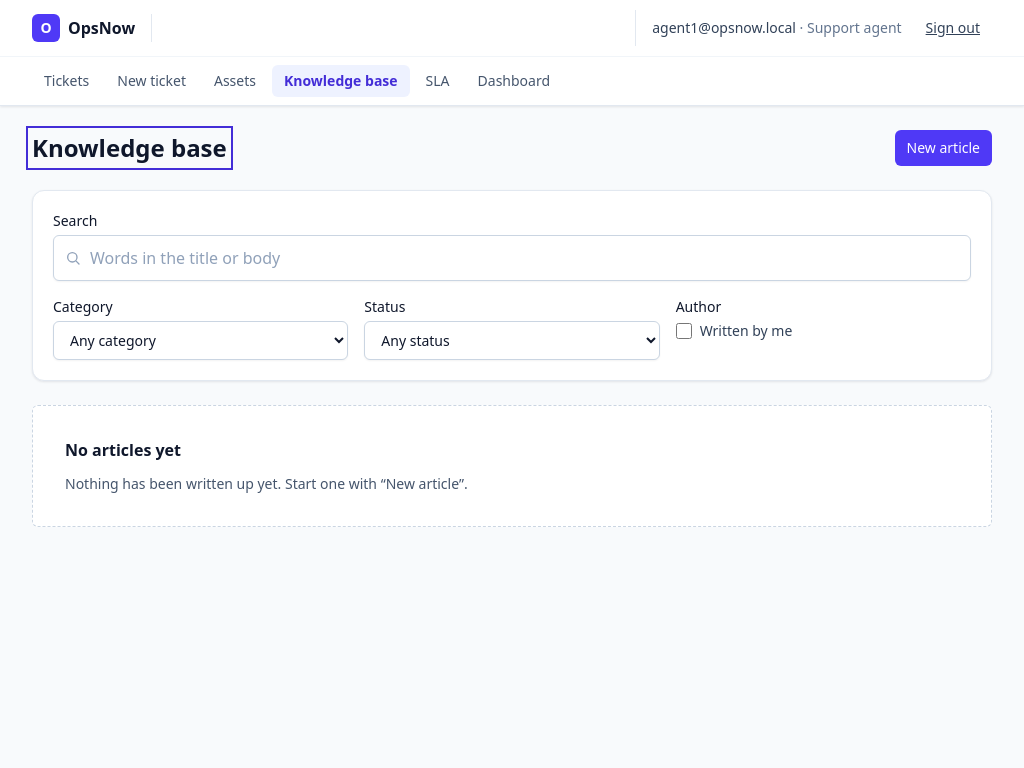
Test case: article list — states › distinguishes "nothing yet" from "no matches"
Expected: the heading "Knowledge base" is shown, [32,132,227,164]
Expected: the text "No articles yet" is shown, [65,438,181,462]
Select "Archived" in the dropdown labelled "Status" at (512, 340), box [364,321,660,360]
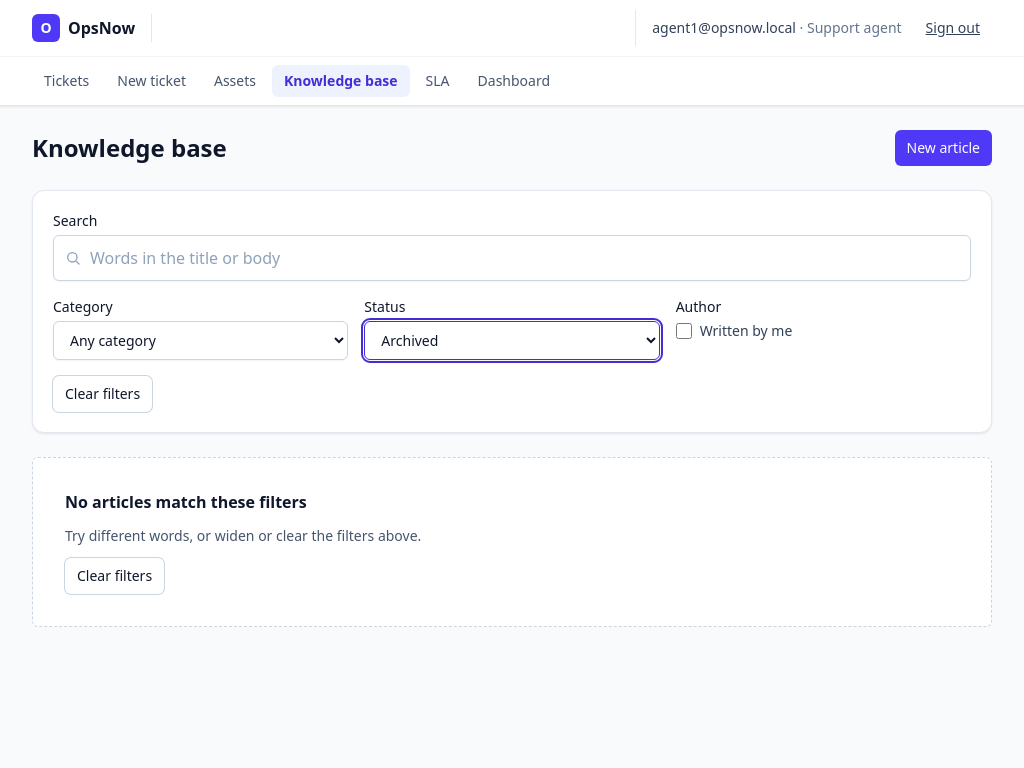
Result: the text "No articles match these filters" is shown at [65,490,307,514]
Result: the button "Clear filters" below "Category" is shown at [53,376,152,412]
